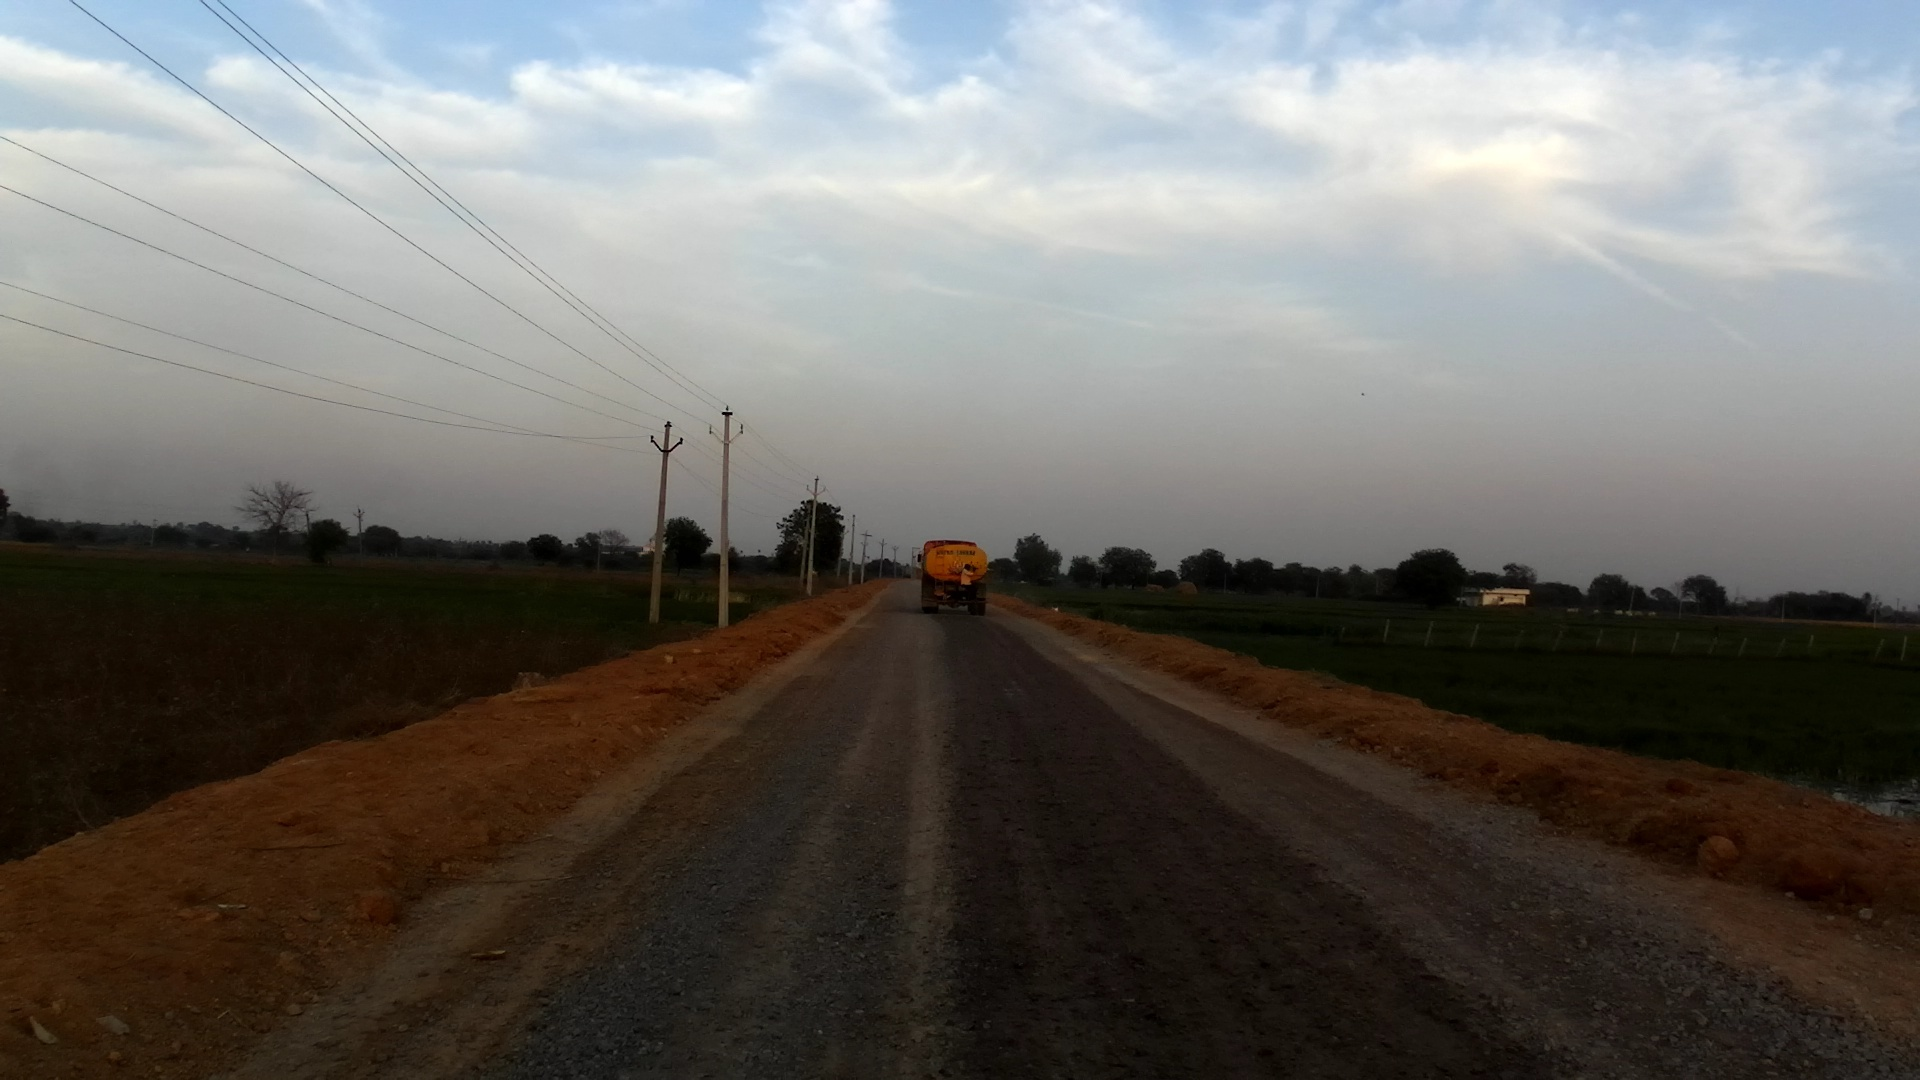truck: (915, 541, 992, 621)
